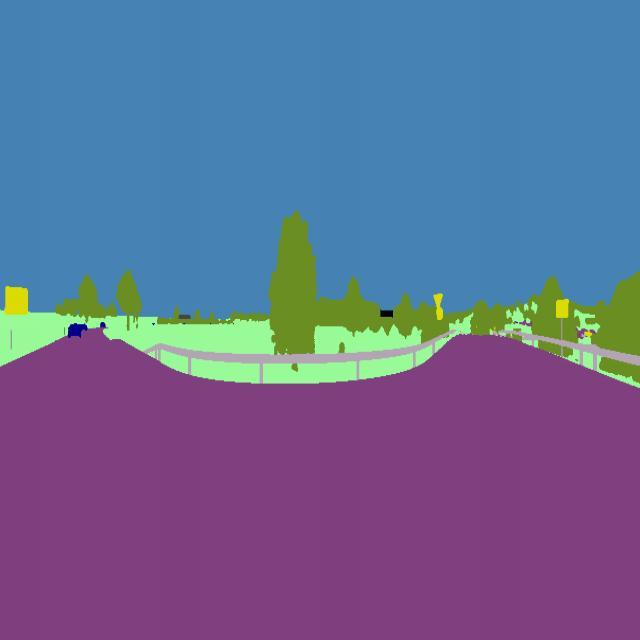safe: (62, 318, 86, 342)
